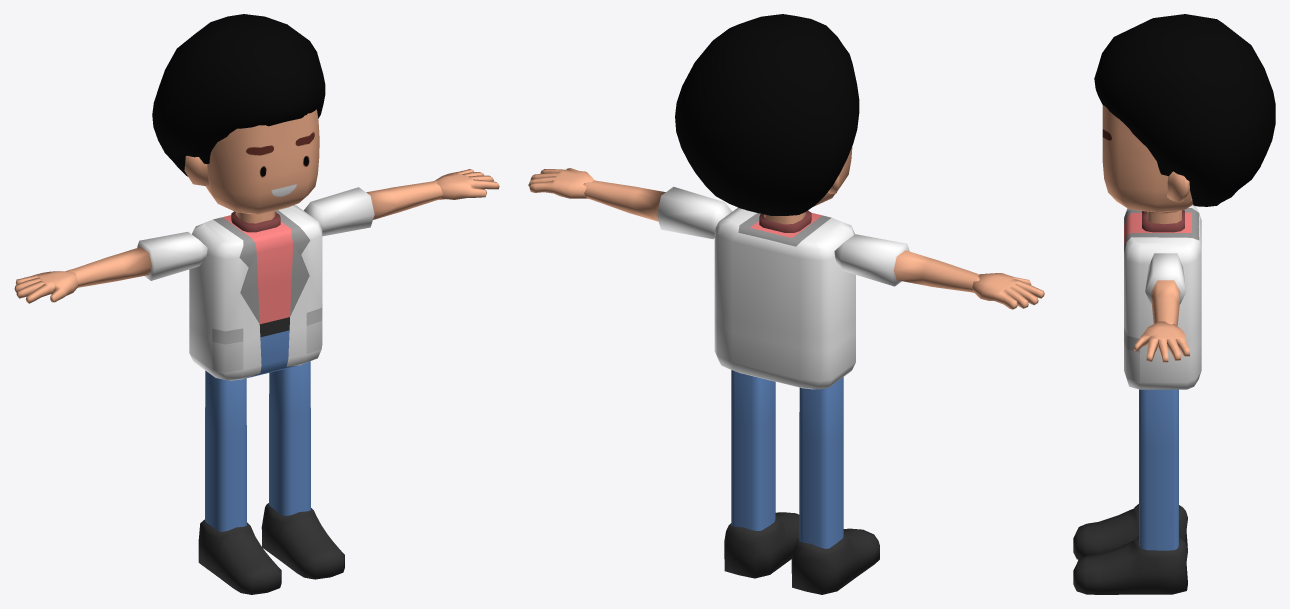
Rendered from NPC_White02_BlackHair01.gltf.
3 renders of one model, left to right at view 1: azimuth 30°, elevation 25°; view 2: azimuth 150°, elevation 25°; view 3: azimuth 270°, elevation 25°, orthographic. The views are drawn at different scales.
Visible parts, largest first — view 1: NPC_Corpo_White2_BlackHair.001; view 2: NPC_Corpo_White2_BlackHair.001; view 3: NPC_Corpo_White2_BlackHair.001.
Part boxes in pixels (left/top/right/bottom): NPC_Corpo_White2_BlackHair.001: left=14, top=14, right=499, bottom=594; NPC_Corpo_White2_BlackHair.001: left=528, top=14, right=1044, bottom=594; NPC_Corpo_White2_BlackHair.001: left=1073, top=14, right=1275, bottom=594.
Size of the model in its own units: 2.31 by 2.41 by 0.8168.
Materials: 1 (1 with a texture image).
